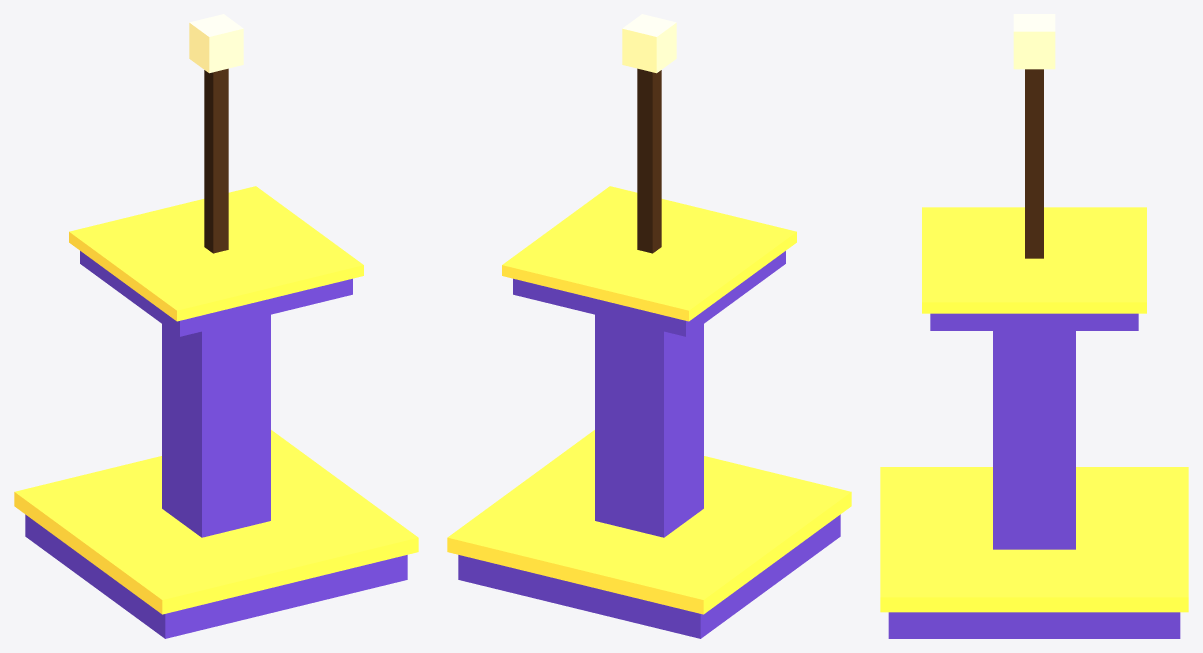
The model's file is wand_stand.gltf.
The picture shows the model from 3 angles, left to right: view 1: azimuth 30°, elevation 25°; view 2: azimuth 150°, elevation 25°; view 3: azimuth 270°, elevation 25°; orthographic projection. The views are drawn at different scales.
Parts seen in each view (by area): view 1: wand_stand; view 2: wand_stand; view 3: wand_stand.
Part boxes in pixels (x1=…): wand_stand: x1=14, y1=14, x2=418, y2=638; wand_stand: x1=447, y1=14, x2=851, y2=638; wand_stand: x1=880, y1=14, x2=1188, y2=638.
Size of the model in its own units: 0.74 by 1.47 by 0.74.
